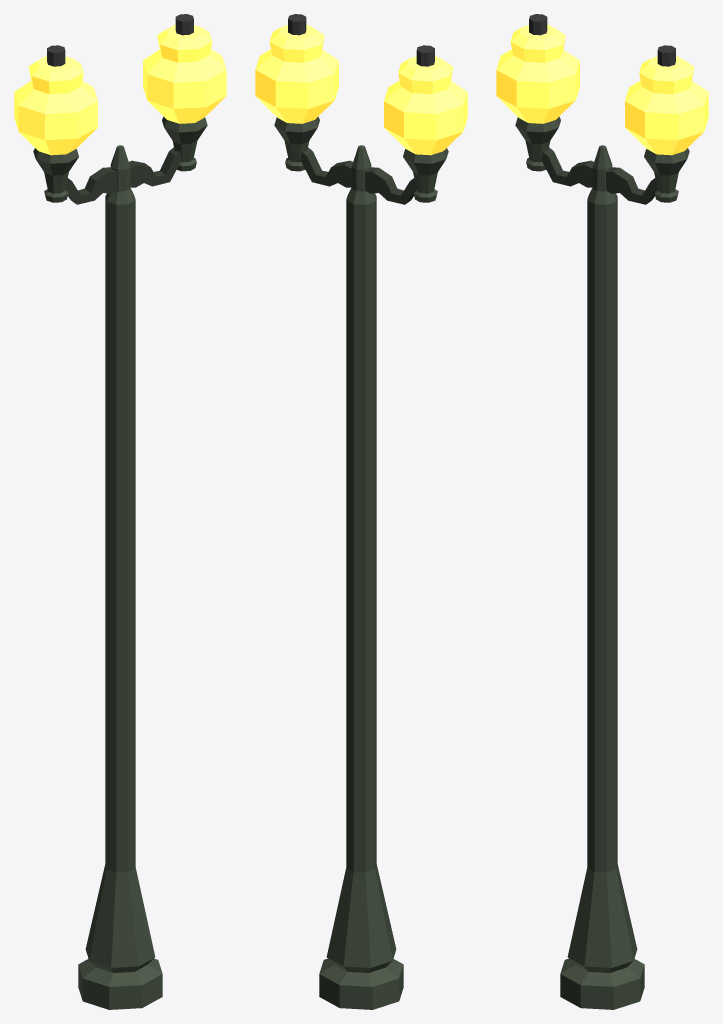
The model's file is SM_Prop_LightPole_Base_02.fbx.
3 renders of one model, left to right at view 1: azimuth 30°, elevation 25°; view 2: azimuth 150°, elevation 25°; view 3: azimuth 330°, elevation 25°, orthographic.
Visible parts, largest first — view 1: SM_Prop_LightPole_Base_02; view 2: SM_Prop_LightPole_Base_02; view 3: SM_Prop_LightPole_Base_02.
Part boxes in pixels (x1=…): SM_Prop_LightPole_Base_02: x1=14, y1=14, x2=226, y2=1009; SM_Prop_LightPole_Base_02: x1=255, y1=14, x2=467, y2=1009; SM_Prop_LightPole_Base_02: x1=496, y1=14, x2=708, y2=1009.
Size of the model in its own units: 110 by 495 by 40.83.
